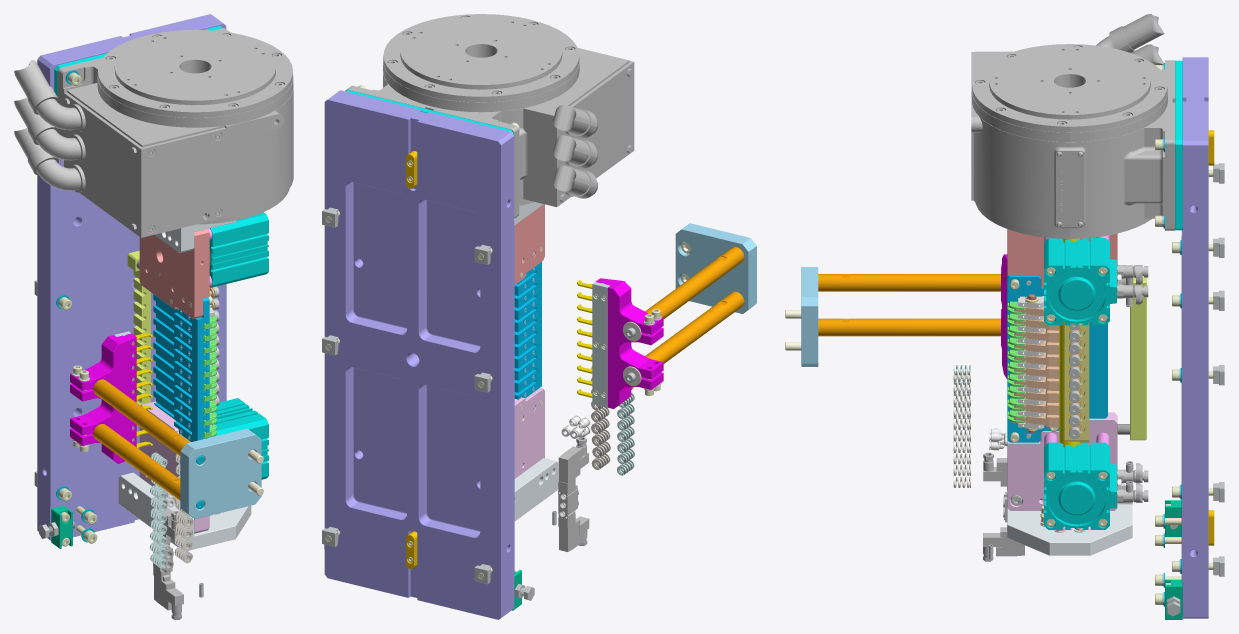
The model's file is 2400467226_B_1-IO_Trim_Main_Assy_4-Axis-MONZA-EMP-01.glb.
The picture shows the model from 3 angles, left to right: view 1: azimuth 30°, elevation 25°; view 2: azimuth 150°, elevation 25°; view 3: azimuth 270°, elevation 25°; orthographic projection.
Parts seen in each view (by area): view 1: empty_289, empty_238, empty_250, empty_41, empty_399, empty_245, empty_398, empty_36, empty_29, empty_360, empty_276, empty_402 (+10 smaller); view 2: empty_289, empty_238, empty_398, empty_399, empty_245, empty_41, empty_35, empty_403, empty_416, empty_402, empty_360, empty_36 (+4 smaller); view 3: empty_238, empty_289, empty_29, empty_25, empty_360, empty_403, empty_35, empty_402, empty_41, empty_19, empty_236, empty_36 (+6 smaller).
Part boxes in pixels (<box>): empty_289: <box>37,14,226,540</box>; empty_238: <box>57,28,293,224</box>; empty_250: <box>139,127,226,237</box>; empty_41: <box>153,294,209,441</box>; empty_399: <box>180,428,261,519</box>; empty_245: <box>64,92,141,235</box>; empty_398: <box>70,333,136,463</box>; empty_36: <box>139,229,209,318</box>; empty_29: <box>209,212,268,287</box>; empty_360: <box>118,472,251,550</box>; empty_276: <box>14,60,85,131</box>; empty_402: <box>92,379,189,455</box>; empty_289: <box>324,90,514,619</box>; empty_238: <box>345,14,629,218</box>; empty_398: <box>595,278,663,408</box>; empty_399: <box>675,223,756,313</box>; empty_245: <box>554,62,632,207</box>; empty_41: <box>514,262,541,399</box>; empty_35: <box>514,388,544,478</box>; empty_403: <box>641,291,744,377</box>; empty_416: <box>592,282,609,407</box>; empty_402: <box>641,247,744,332</box>; empty_360: <box>514,458,558,520</box>; empty_36: <box>514,204,544,284</box>; empty_238: <box>971,44,1175,238</box>; empty_289: <box>1181,57,1208,618</box>; empty_29: <box>1044,238,1116,325</box>; empty_25: <box>1044,442,1116,529</box>; empty_360: <box>1007,483,1132,555</box>; empty_403: <box>818,318,1000,336</box>; empty_35: <box>1007,412,1117,510</box>; empty_402: <box>818,274,1000,291</box>; empty_41: <box>1007,276,1107,442</box>; empty_19: <box>1130,276,1146,440</box>; empty_236: <box>1056,150,1083,227</box>; empty_36: <box>1007,229,1117,287</box>.
Bounding box in the file's own units: 0.4095 × 0.8063 × 0.6246.
